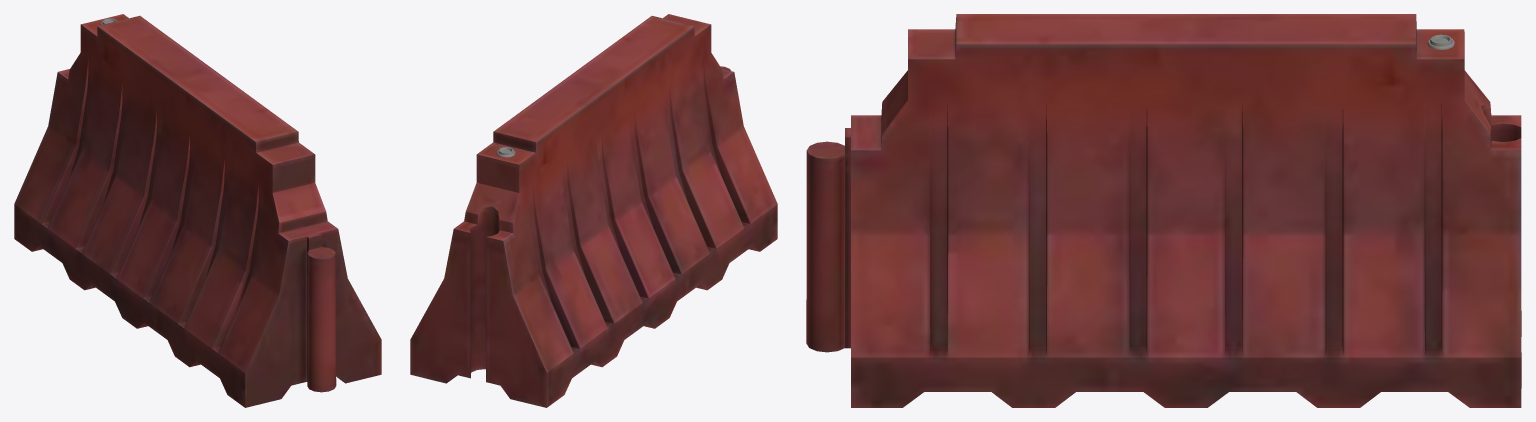
The model's file is SM_RoadBlock2_d0758d.glb.
3 renders of one model, left to right at view 1: azimuth 30°, elevation 25°; view 2: azimuth 150°, elevation 25°; view 3: azimuth 270°, elevation 25°, orthographic. The views are drawn at different scales.
Bounding box in the file's own units: 0.5413 × 0.8629 × 1.69.
1 material, 1 textured.
